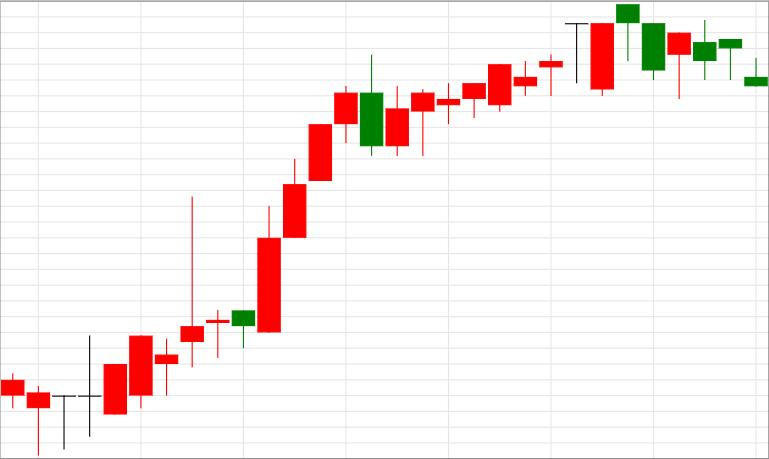bearish_engulfing_fall: (104, 53, 383, 415)
evening_star_fall: (386, 5, 665, 156)
